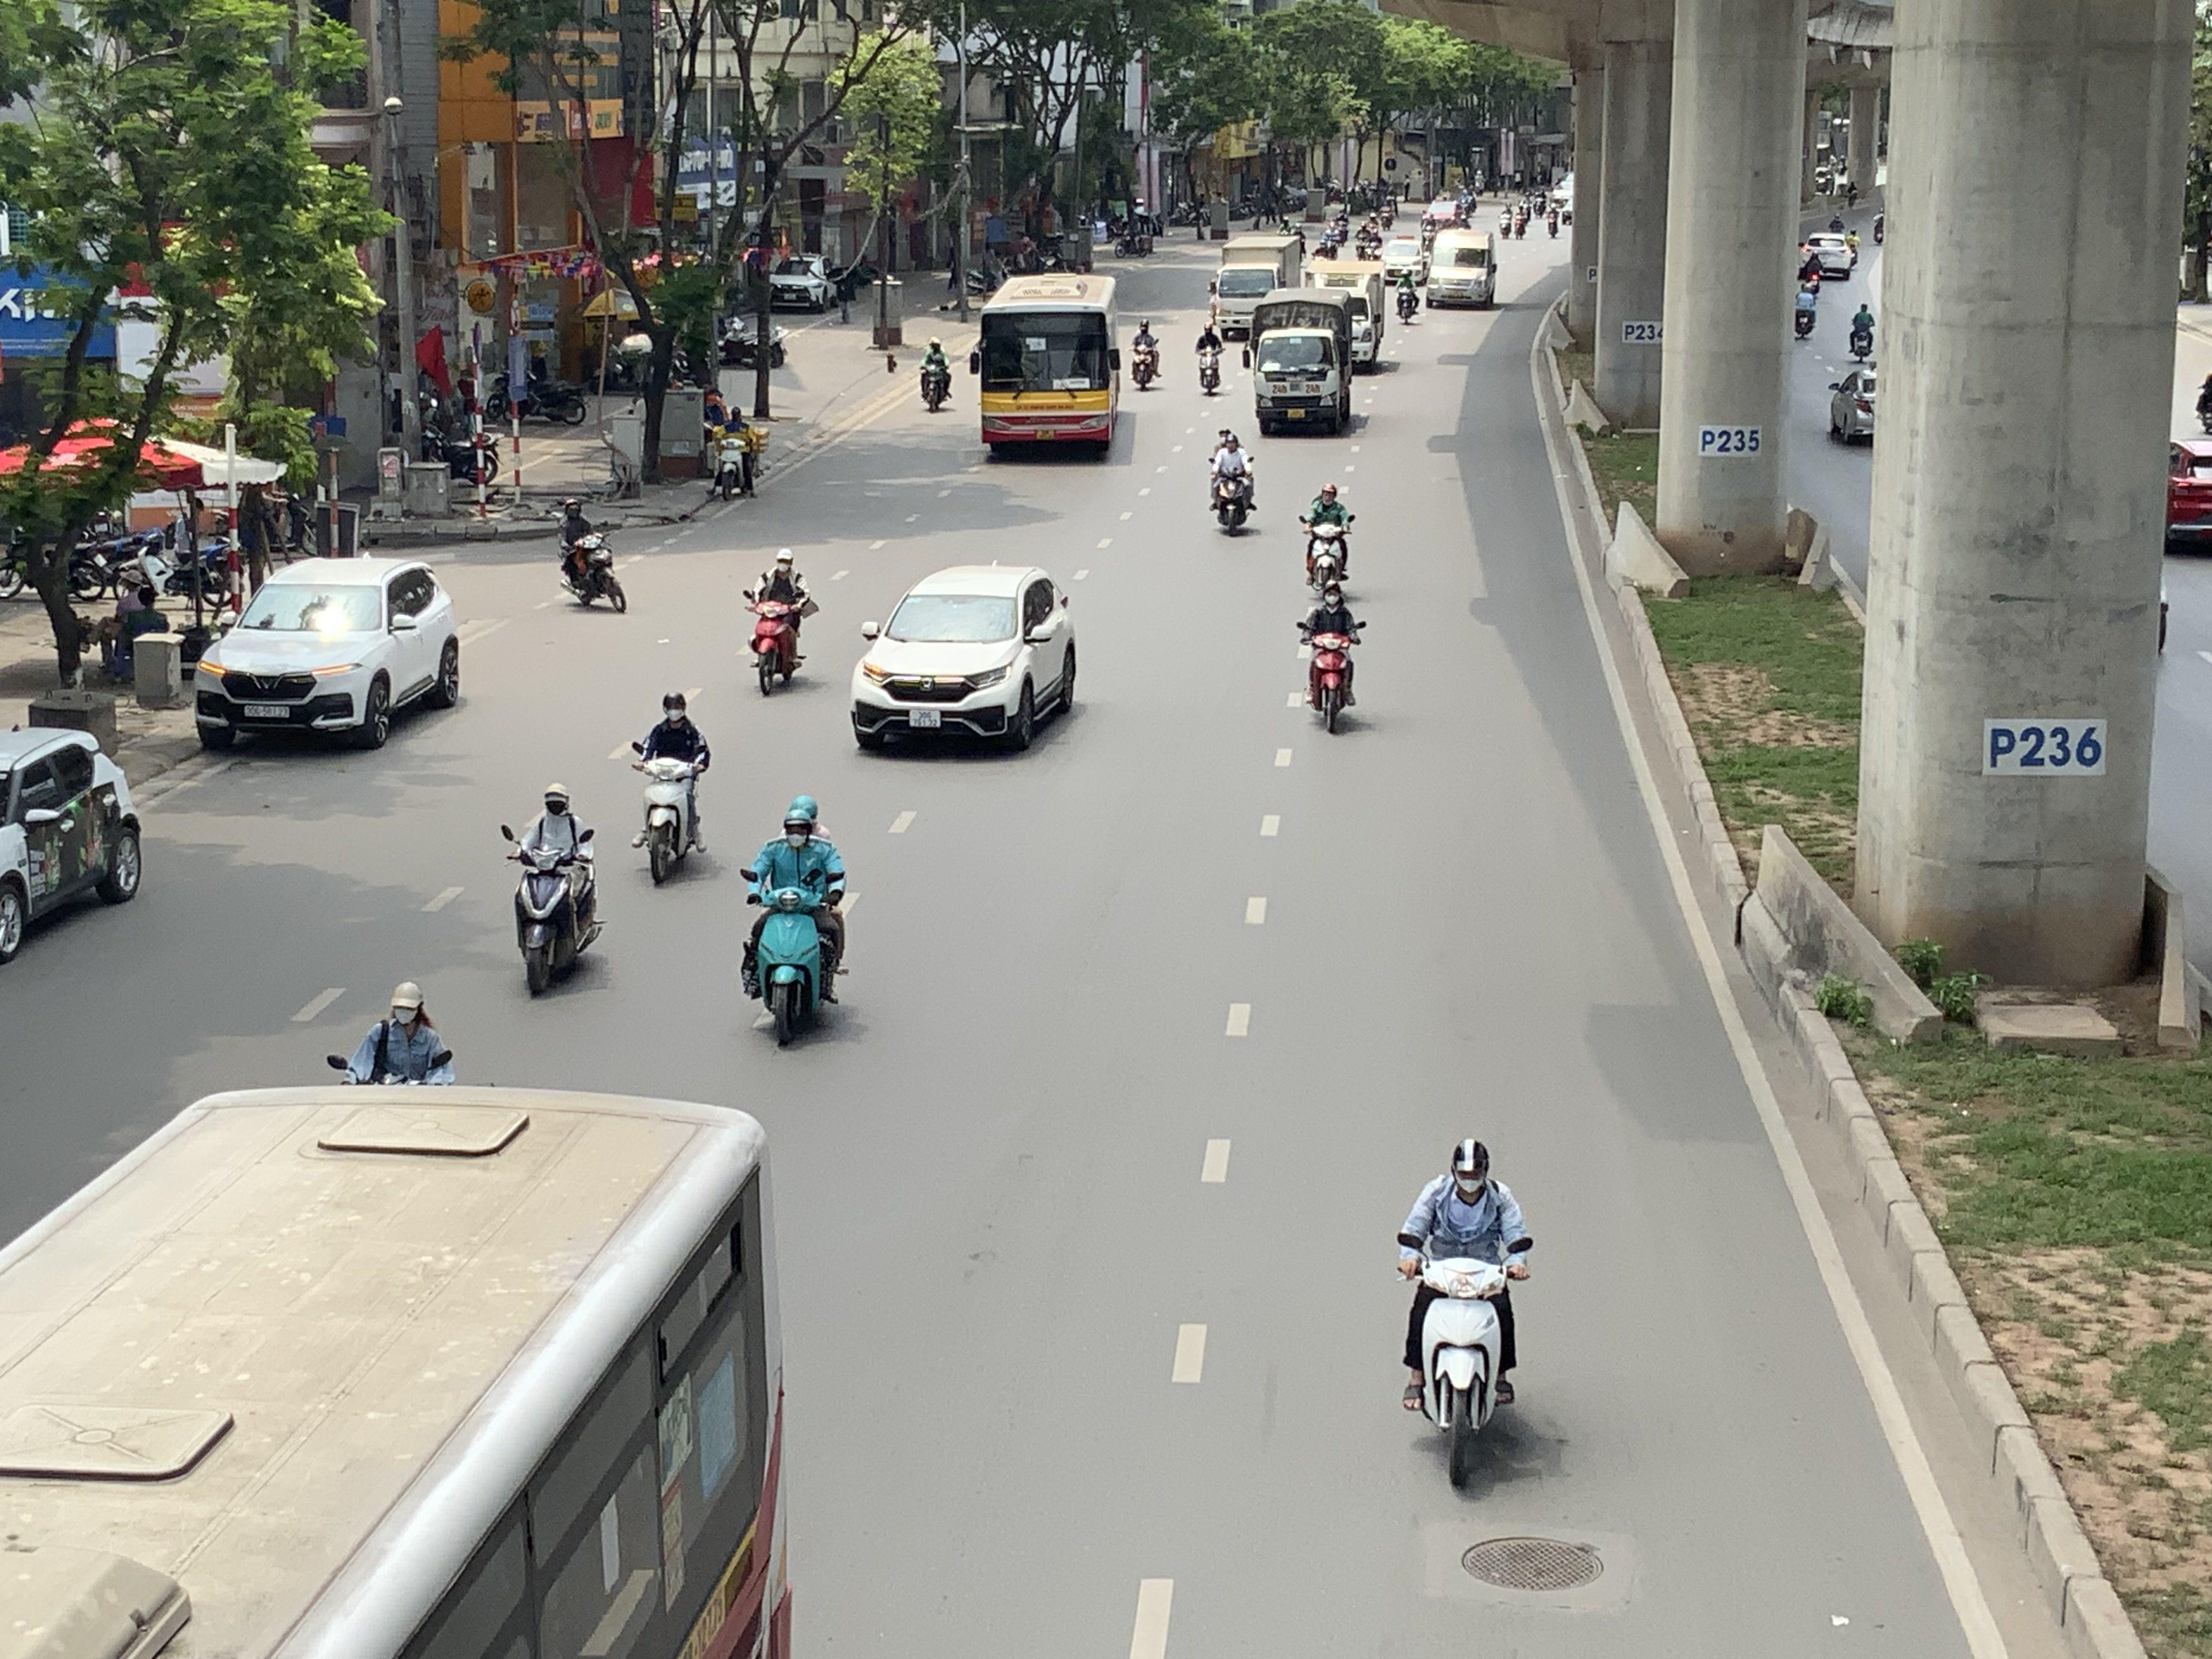BSD: (244, 706, 291, 718)
BSV: (909, 709, 941, 728)
bus: (975, 270, 1122, 460), (1425, 227, 1498, 308)
car: (193, 556, 463, 753), (848, 565, 1080, 756), (0, 723, 145, 967)
motorbike: (1397, 1138, 1533, 1493), (740, 795, 848, 1051), (503, 782, 603, 999), (632, 690, 711, 885), (331, 979, 455, 1087), (1298, 579, 1364, 735), (745, 549, 815, 695), (557, 497, 627, 613), (1299, 481, 1355, 596), (1207, 427, 1258, 535), (711, 408, 765, 498), (916, 338, 953, 411), (1195, 319, 1224, 396), (1130, 319, 1162, 390), (1846, 301, 1876, 362), (1395, 267, 1421, 324), (1357, 216, 1381, 261)
truck: (1245, 286, 1357, 436), (1216, 235, 1303, 342)
